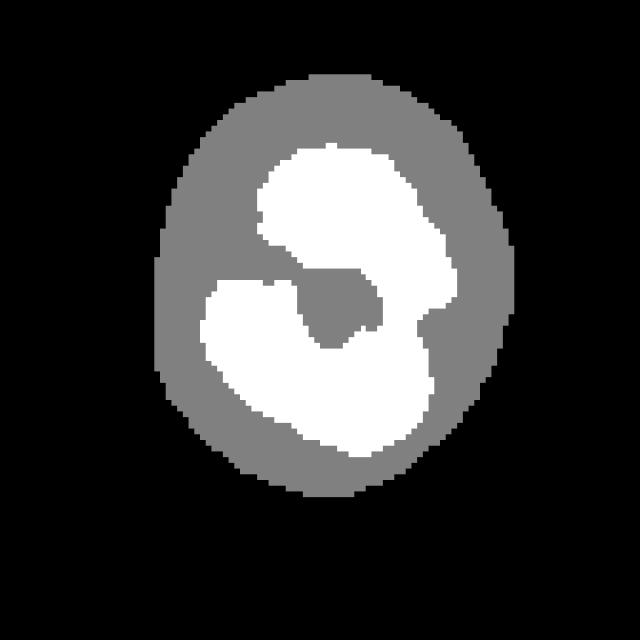WBC: (137, 51, 543, 520)
